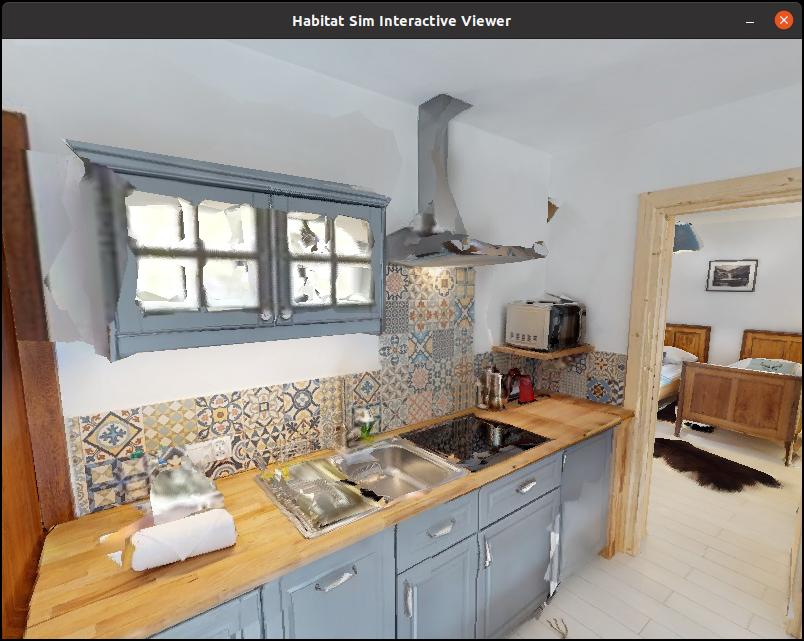bed: (693, 315, 804, 454)
door-frame: (609, 185, 804, 586)
sink: (321, 399, 464, 528)
